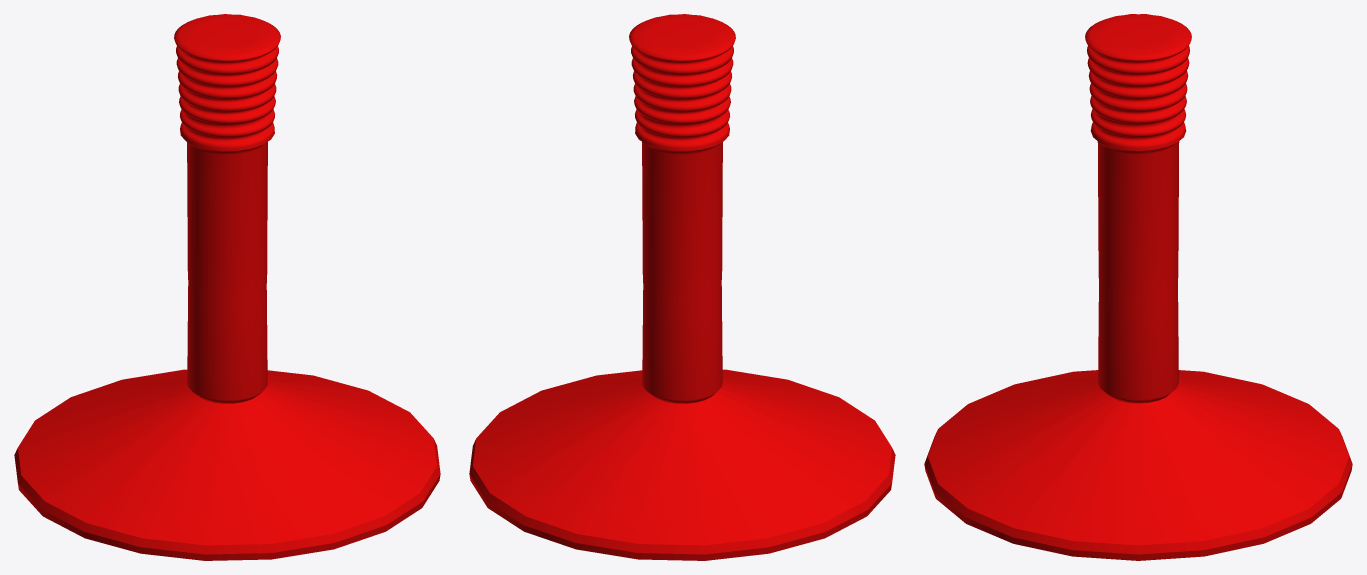
The model's file is TeslaCoil_high.fbx.
3 renders of one model, left to right at view 1: azimuth 30°, elevation 25°; view 2: azimuth 150°, elevation 25°; view 3: azimuth 270°, elevation 25°, orthographic.
Visible parts, largest first — view 1: TeslaCoil_high; view 2: TeslaCoil_high; view 3: TeslaCoil_high.
Boxes of the visible parts, x1,y1,x2,y2 form: TeslaCoil_high: [14, 14, 440, 560]; TeslaCoil_high: [469, 14, 895, 560]; TeslaCoil_high: [924, 14, 1352, 560].
Bounding box in the file's own units: 5.34 × 6.01 × 5.34.
